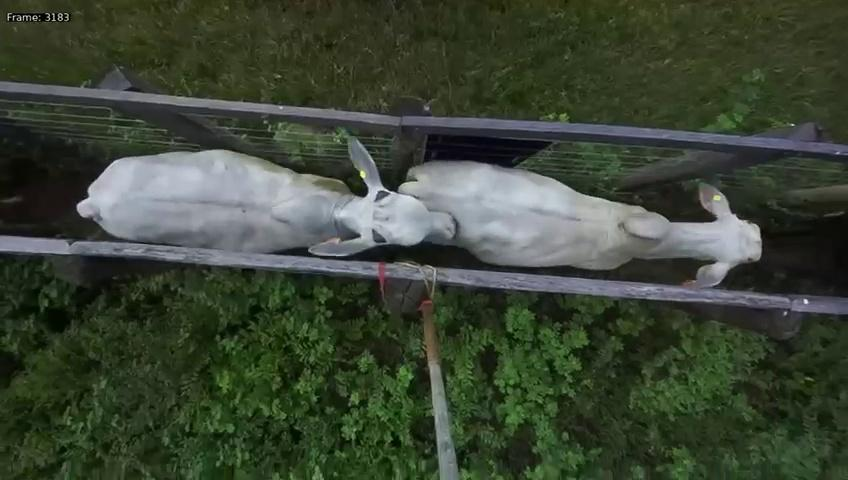cattle: (396, 127, 770, 298), (72, 126, 488, 260)
